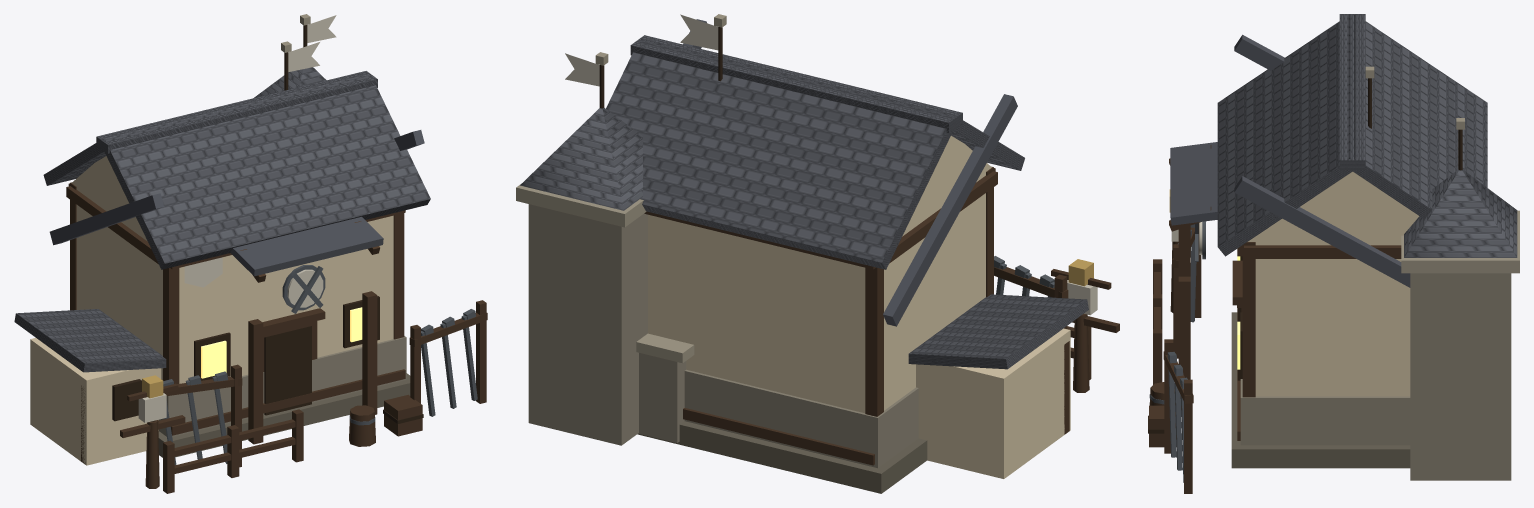
File: infantry-L3.glb
The picture shows the model from 3 angles, left to right: view 1: azimuth 30°, elevation 25°; view 2: azimuth 150°, elevation 25°; view 3: azimuth 270°, elevation 25°; orthographic projection. The views are drawn at different scales.
Parts seen in each view (by area): view 1: building-infantry-L3; view 2: building-infantry-L3; view 3: building-infantry-L3.
Part boxes in pixels (x1,y1,x2,y2): building-infantry-L3: (14, 14, 487, 493); building-infantry-L3: (516, 14, 1119, 493); building-infantry-L3: (1148, 14, 1519, 493).
Bounding box in the file's own units: 2.77 × 2.3 × 2.13.
12 materials, 1 textured.
